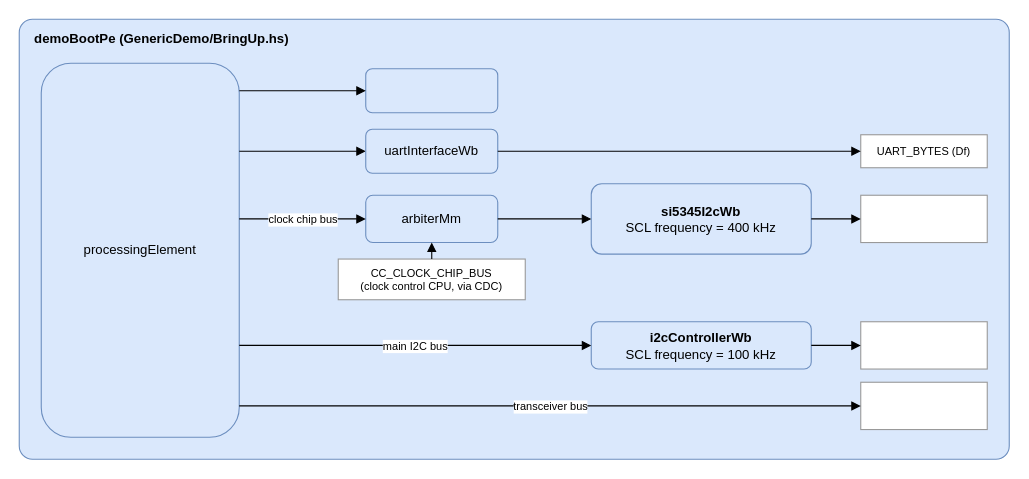
Some shapes in this 1029 by 479 pixel diagram are drawn without their labels. The centre of each missing label's shape, as x and y in pixels:
FMC_I2C (Si5345): the point at 923,218
MAIN_I2C (KCU105, VADJ): the point at 923,345
timeWb: the point at 431,90
TRANSCEIVER_BUS: the point at 923,405
